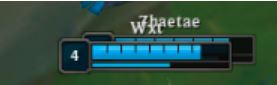bar: (56, 36, 235, 76), (79, 30, 258, 70)
